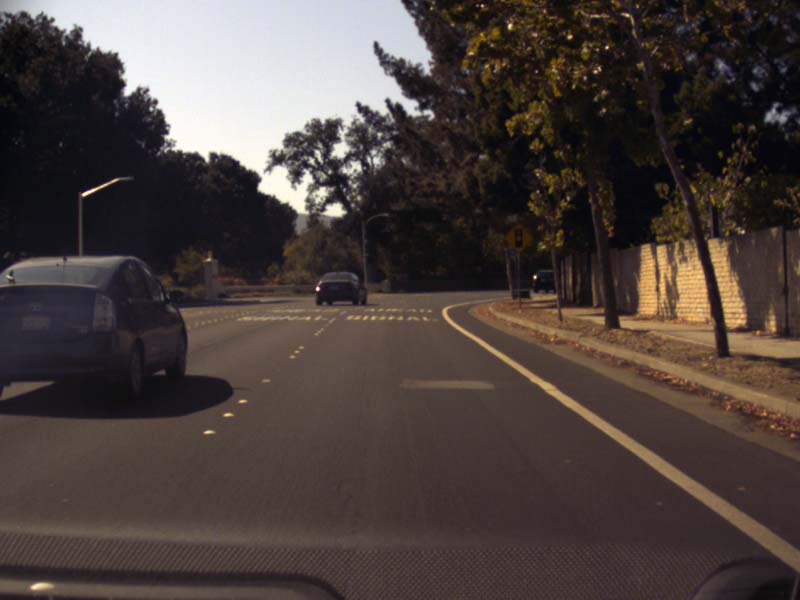Yellow: (516, 229, 522, 246)
